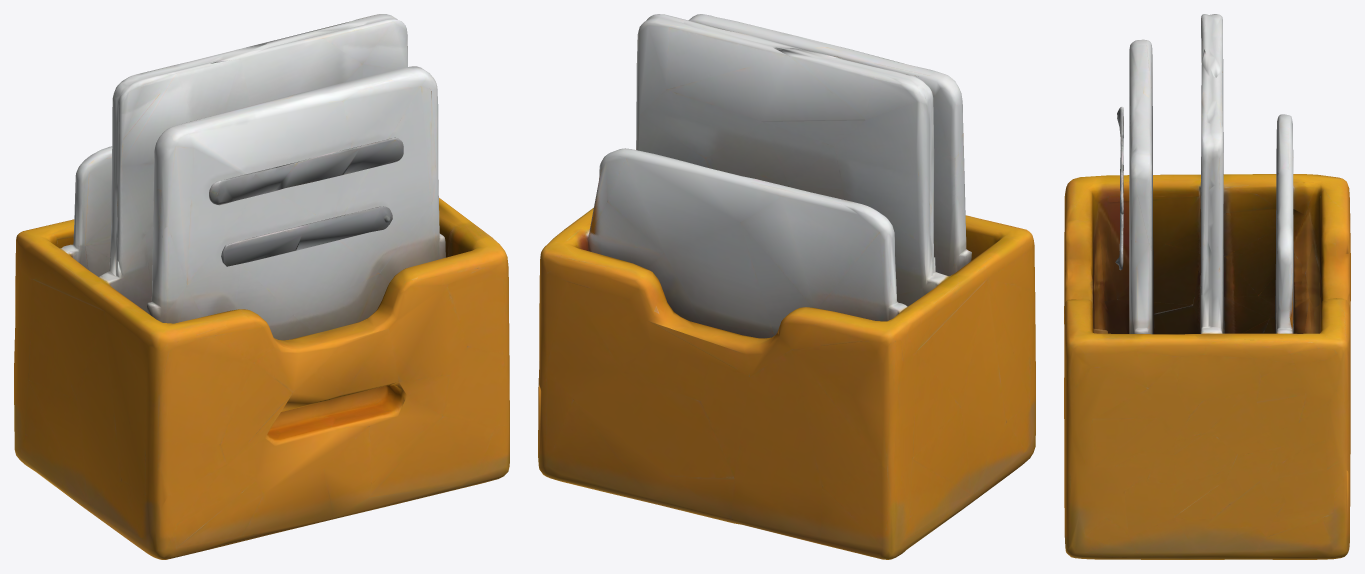
File: graphics.glb
3 renders of one model, left to right at view 1: azimuth 30°, elevation 25°; view 2: azimuth 150°, elevation 25°; view 3: azimuth 270°, elevation 25°, orthographic. The views are drawn at different scales.
Size of the model in its own units: 1.78 by 2 by 1.27.
Materials: 1 (1 with a texture image).
